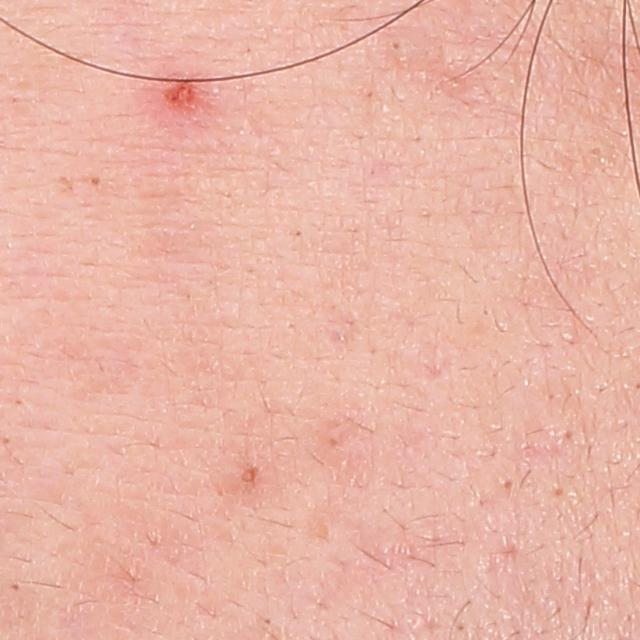comedo: (238, 462, 263, 487), (385, 34, 408, 57), (497, 475, 519, 495), (587, 142, 607, 160)
